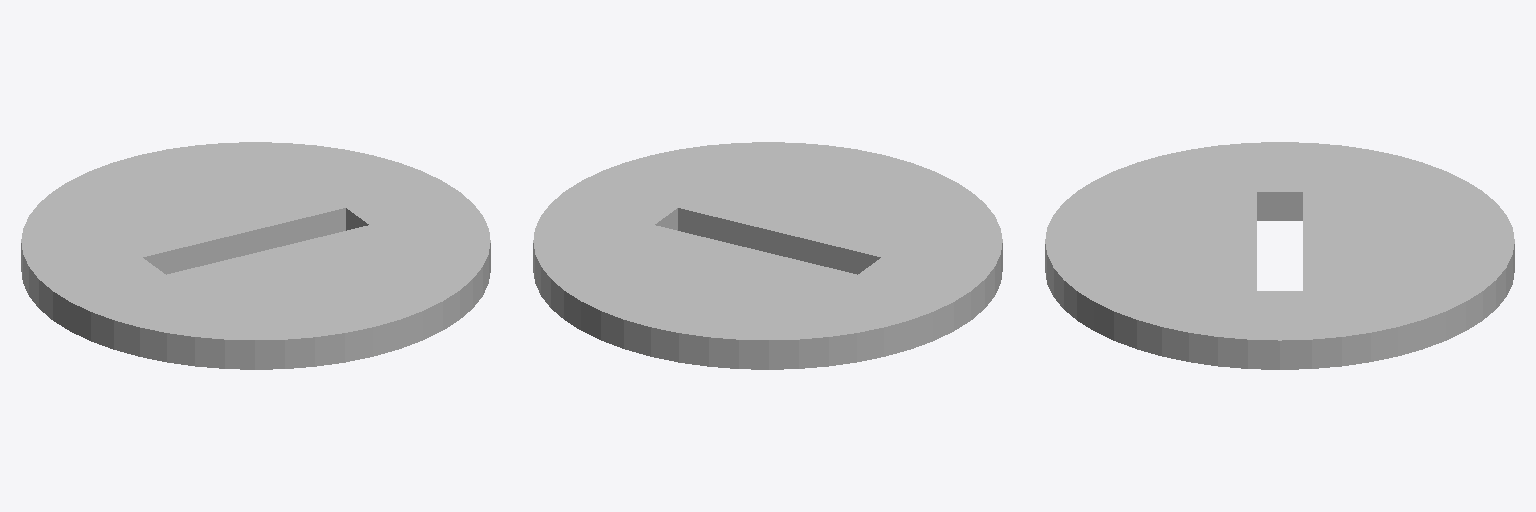
Rendered from wrongway.obj.
3 renders of one model, left to right at view 1: azimuth 30°, elevation 25°; view 2: azimuth 150°, elevation 25°; view 3: azimuth 270°, elevation 25°, orthographic.
Visible parts, largest first — view 1: Curve_Curve.019; view 2: Curve_Curve.019; view 3: Curve_Curve.019.
Boxes of the visible parts, x1,y1,x2,y2 form: Curve_Curve.019: [21, 142, 490, 369]; Curve_Curve.019: [533, 142, 1002, 369]; Curve_Curve.019: [1045, 142, 1514, 369].
Bounding box in the file's own units: 7.65 × 0.5295 × 7.65.